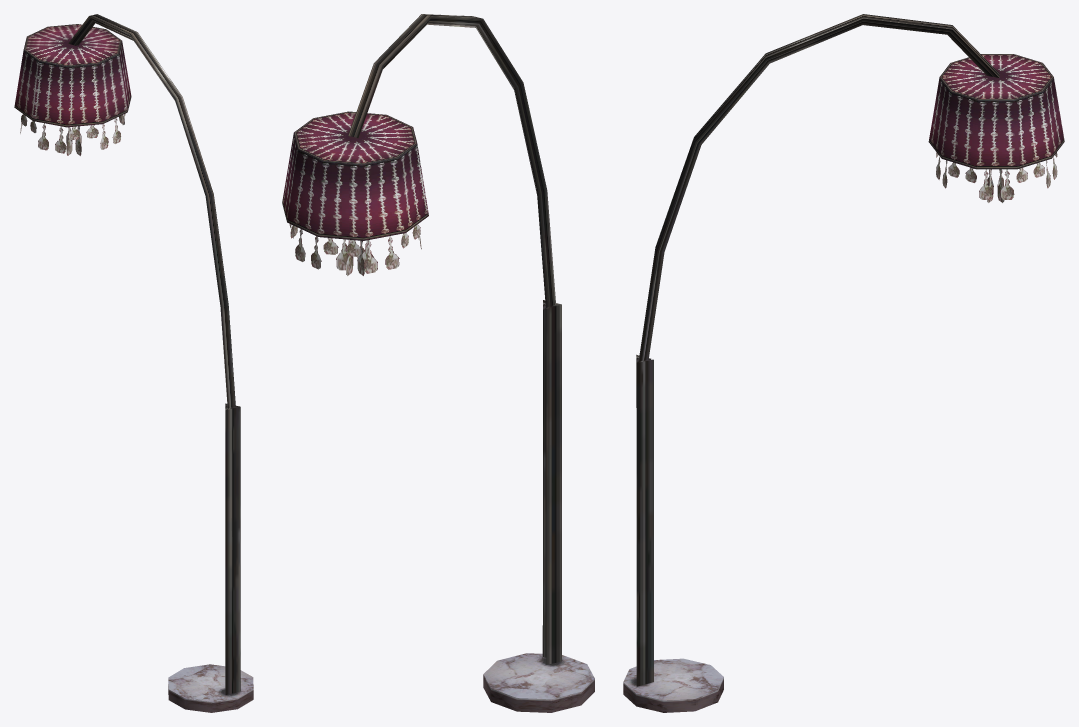
Rendered from furni_0200303_01.FBX.
3 renders of one model, left to right at view 1: azimuth 30°, elevation 25°; view 2: azimuth 150°, elevation 25°; view 3: azimuth 270°, elevation 25°, orthographic. The views are drawn at different scales.
Parts seen in each view (by area): view 1: furni_0200303_01; view 2: furni_0200303_01; view 3: furni_0200303_01.
Boxes of the visible parts, left/top/right/bottom form: furni_0200303_01: left=14, top=14, right=253, bottom=712; furni_0200303_01: left=282, top=14, right=594, bottom=712; furni_0200303_01: left=623, top=14, right=1064, bottom=712.
Size of the model in its own units: 43.62 by 252 by 149.
2 materials, 2 textured.
